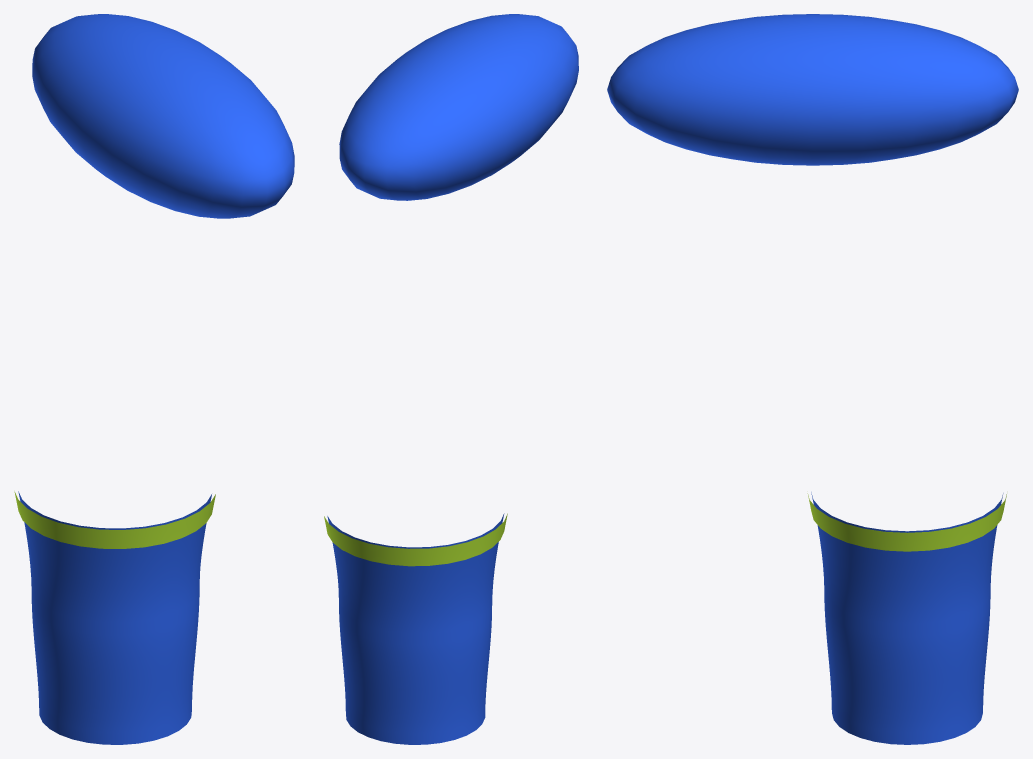
The model's file is socks_crew_male.glb.
3 renders of one model, left to right at view 1: azimuth 30°, elevation 25°; view 2: azimuth 150°, elevation 25°; view 3: azimuth 270°, elevation 25°, orthographic. The views are drawn at different scales.
Parts seen in each view (by area): view 1: sock_foot, sock, sock_band; view 2: sock_foot, sock, sock_band; view 3: sock_foot, sock, sock_band.
Boxes of the visible parts, box(x1,y1,x2,y2) form: sock_foot: box(32, 14, 294, 218); sock: box(18, 491, 211, 744); sock_band: box(14, 491, 215, 548); sock_foot: box(339, 14, 578, 200); sock: box(327, 513, 504, 744); sock_band: box(324, 513, 507, 566); sock_foot: box(607, 14, 1018, 165); sock: box(811, 492, 1003, 744); sock_band: box(807, 493, 1006, 551).
Bounding box in the file's own units: 0.1062 × 0.402 × 0.218.
